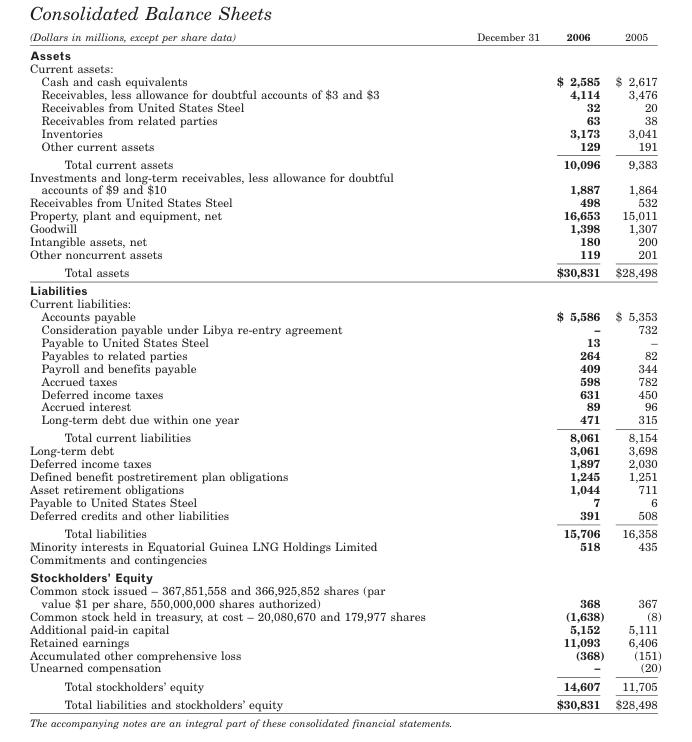table: (28, 29, 660, 710)
table column: (28, 29, 434, 710), (434, 29, 547, 710), (547, 29, 609, 710), (609, 29, 660, 710)
table column header: (28, 29, 660, 45)
table projected row header: (28, 45, 660, 61), (28, 567, 660, 583), (28, 281, 660, 296), (28, 552, 660, 567), (28, 61, 660, 74), (28, 296, 660, 309)
table row: (28, 169, 660, 195), (28, 583, 660, 609), (28, 262, 660, 281), (28, 676, 660, 694), (28, 29, 660, 45), (28, 45, 660, 61), (28, 138, 660, 154), (28, 412, 660, 428), (28, 523, 660, 539), (28, 567, 660, 583), (28, 660, 660, 676), (28, 694, 660, 710), (28, 154, 660, 169), (28, 247, 660, 262), (28, 281, 660, 296), (28, 428, 660, 443), (28, 508, 660, 523), (28, 552, 660, 567), (28, 61, 660, 74), (28, 74, 660, 87), (28, 99, 660, 112), (28, 112, 660, 125), (28, 125, 660, 138), (28, 195, 660, 208), (28, 208, 660, 221), (28, 221, 660, 234), (28, 234, 660, 247), (28, 296, 660, 309), (28, 309, 660, 322), (28, 322, 660, 335), (28, 335, 660, 348), (28, 360, 660, 373), (28, 373, 660, 386), (28, 386, 660, 399), (28, 399, 660, 412), (28, 443, 660, 456), (28, 456, 660, 469), (28, 469, 660, 482), (28, 482, 660, 495), (28, 495, 660, 508), (28, 539, 660, 552), (28, 621, 660, 634), (28, 634, 660, 647), (28, 647, 660, 660), (28, 87, 660, 99), (28, 348, 660, 360), (28, 609, 660, 621)
table spanning cell: (28, 609, 547, 621)
